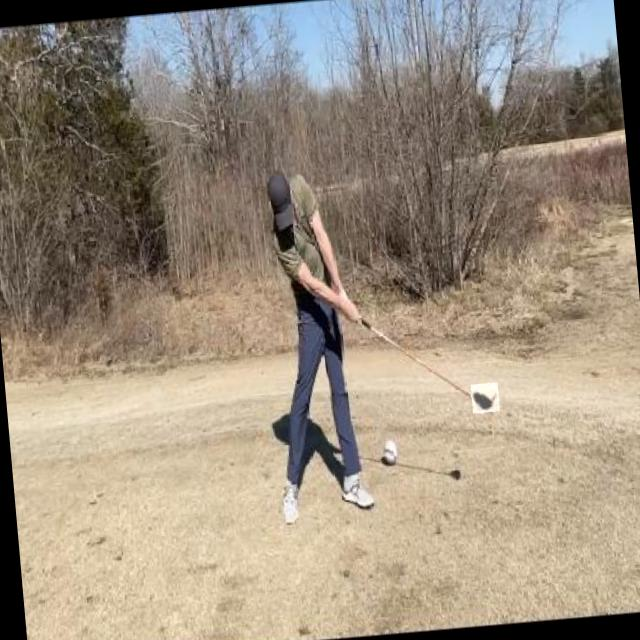club head: (470, 382, 500, 413)
